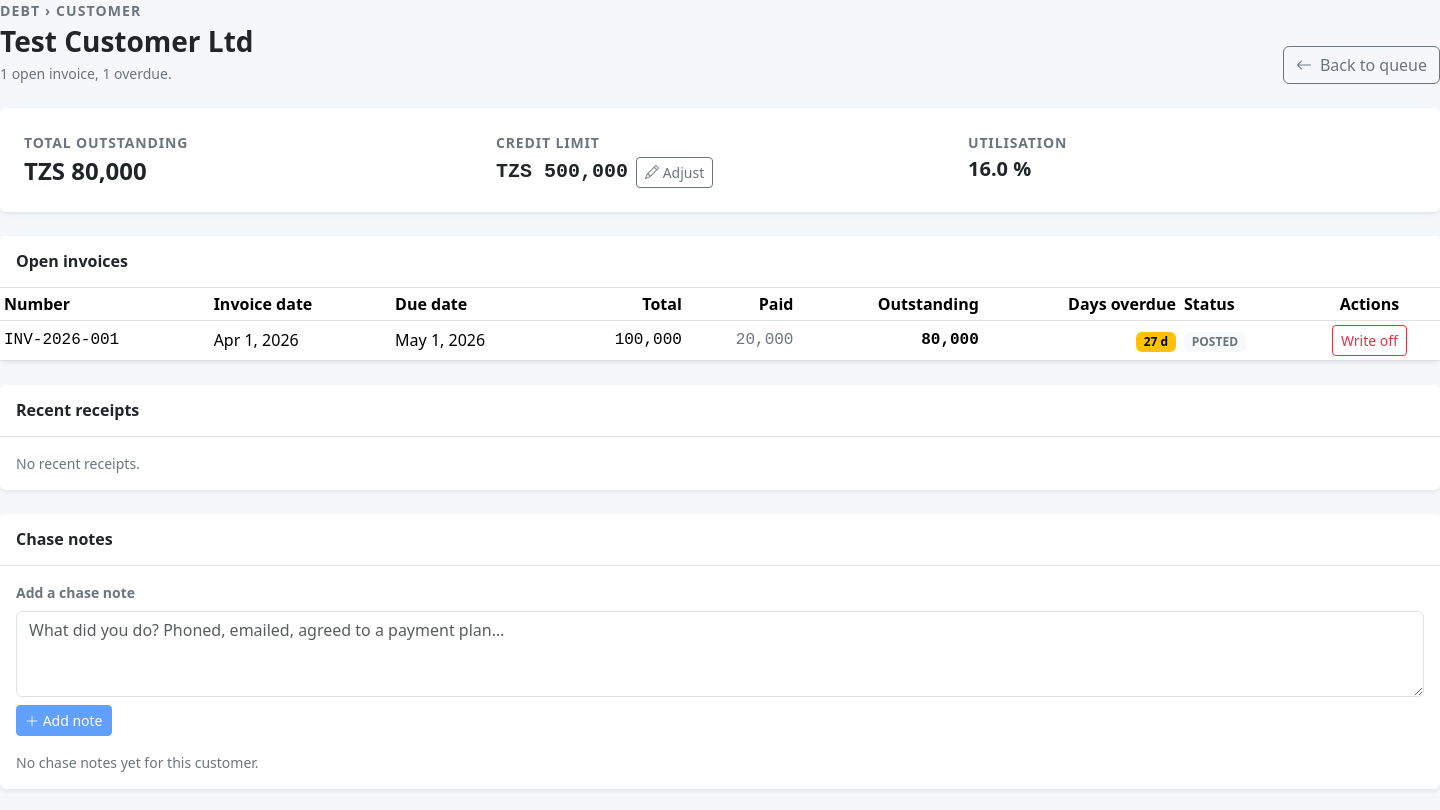
Test: DebtCustomerComponent — write-off integration (G.2) › opens the write-off modal with correct invoice data on button click
Step 1. Click the button with test id "write-off-btn" → [1369, 340], box [1332,325,1407,356]
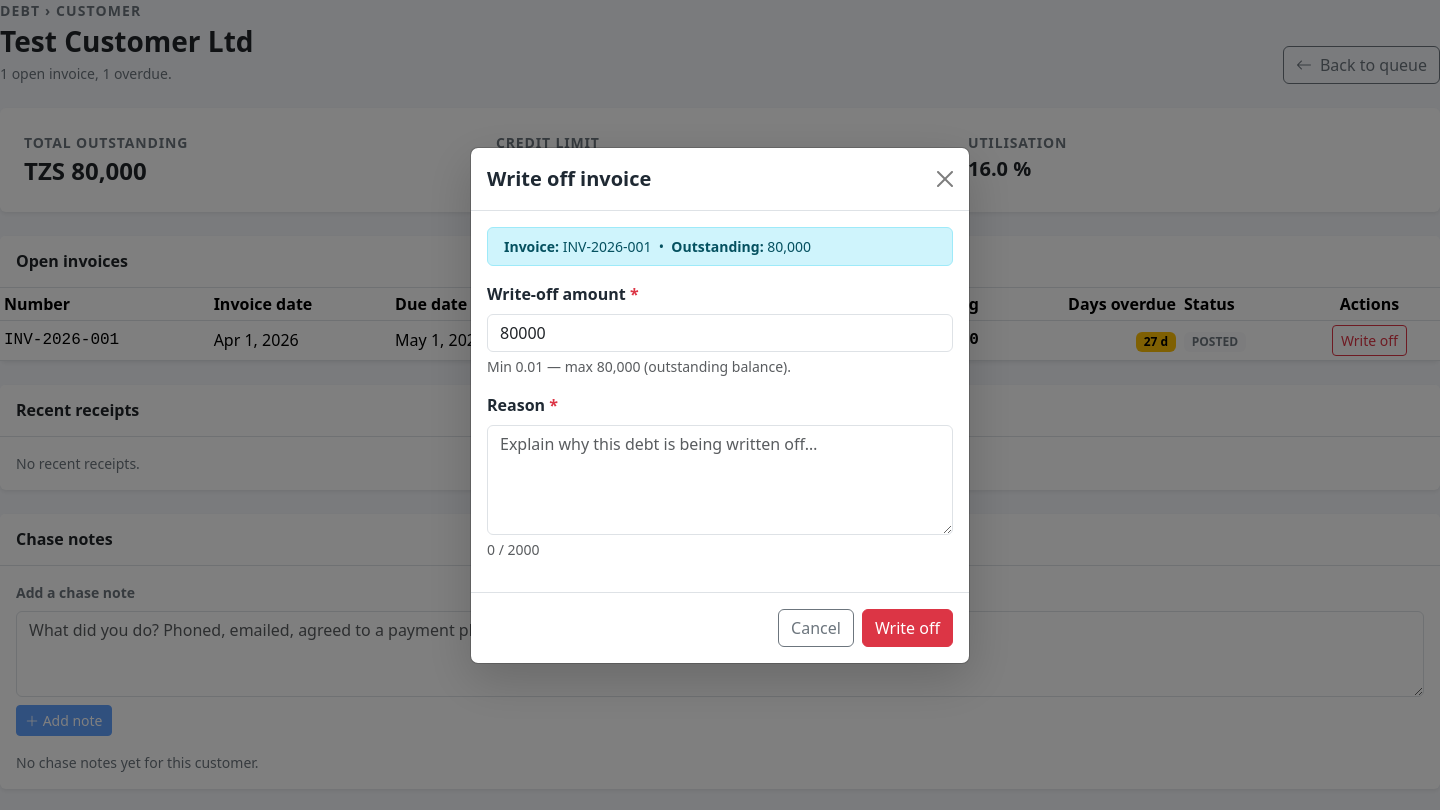
expect the dialog is shown: met, box [470,146,970,664]
expect the element with class "alert-info" shows "INV-2026-001": met, box [559,236,671,256]
